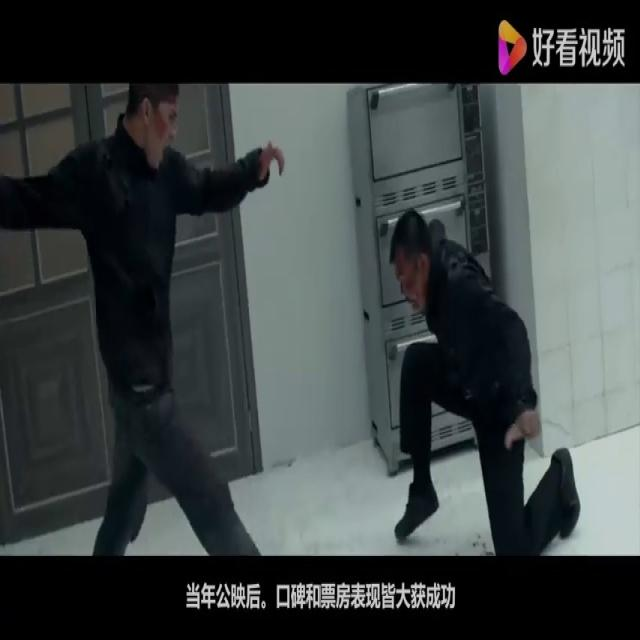fight: (0, 76, 583, 554)
